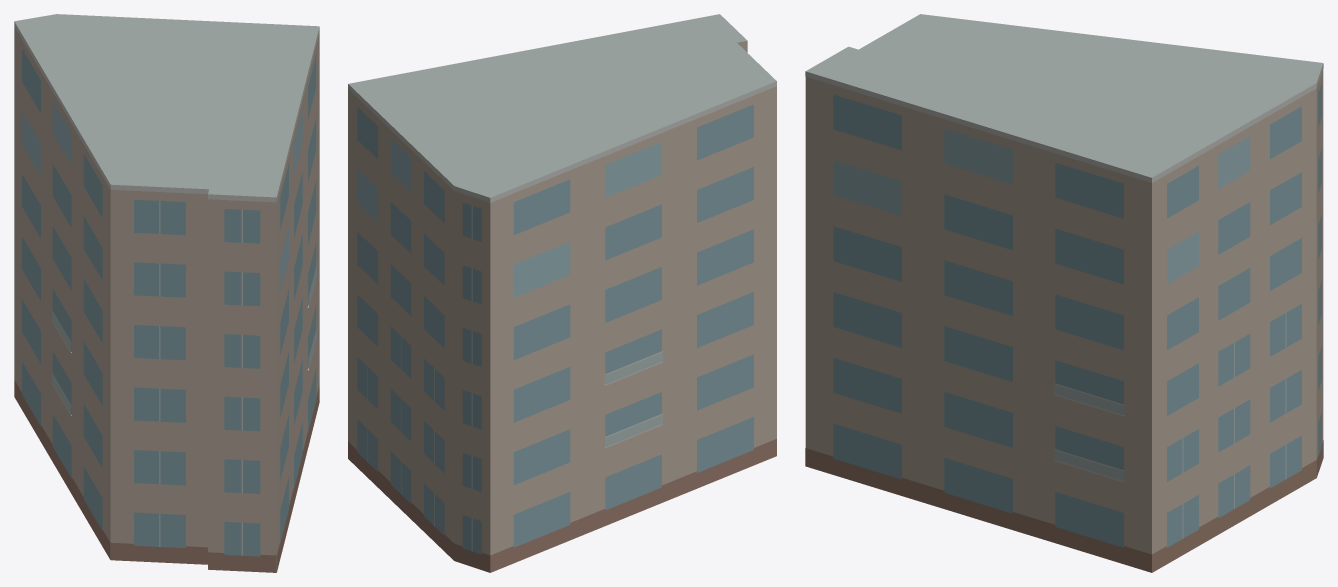
File: survey-upis-32661327.glb
The picture shows the model from 3 angles, left to right: view 1: azimuth 30°, elevation 25°; view 2: azimuth 150°, elevation 25°; view 3: azimuth 270°, elevation 25°; orthographic projection. The views are drawn at different scales.
Visible parts, largest first — view 1: survey-upis-32661327.tmp; view 2: survey-upis-32661327.tmp; view 3: survey-upis-32661327.tmp.
Boxes of the visible parts, x1=… form: survey-upis-32661327.tmp: x1=14, y1=14, x2=319, y2=572; survey-upis-32661327.tmp: x1=348, y1=14, x2=776, y2=572; survey-upis-32661327.tmp: x1=805, y1=14, x2=1323, y2=572.
Size of the model in its own units: 16.29 by 18.3 by 21.76.
